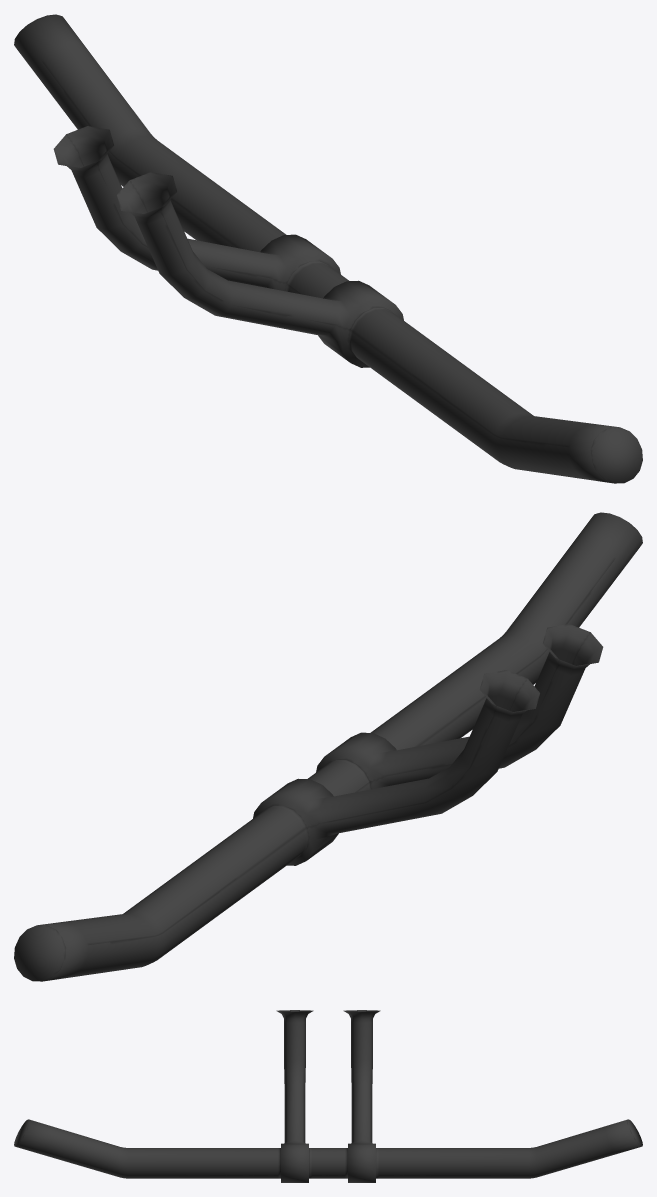
The model's file is Helicopter Skid Left.obj.
The picture shows the model from 3 angles, top to bottom: view 1: azimuth 30°, elevation 25°; view 2: azimuth 150°, elevation 25°; view 3: azimuth 270°, elevation 25°; orthographic projection. The views are drawn at different scales.
Visible parts, largest first — view 1: Skid_LEFT_Cube.009; view 2: Skid_LEFT_Cube.009; view 3: Skid_LEFT_Cube.009.
Part boxes in pixels (x1=…): Skid_LEFT_Cube.009: x1=14, y1=14, x2=642, y2=483; Skid_LEFT_Cube.009: x1=14, y1=512, x2=642, y2=981; Skid_LEFT_Cube.009: x1=14, y1=1010, x2=642, y2=1182.
Bounding box in the file's own units: 1.24 × 0.9957 × 4.69.
1 material, 1 textured.
